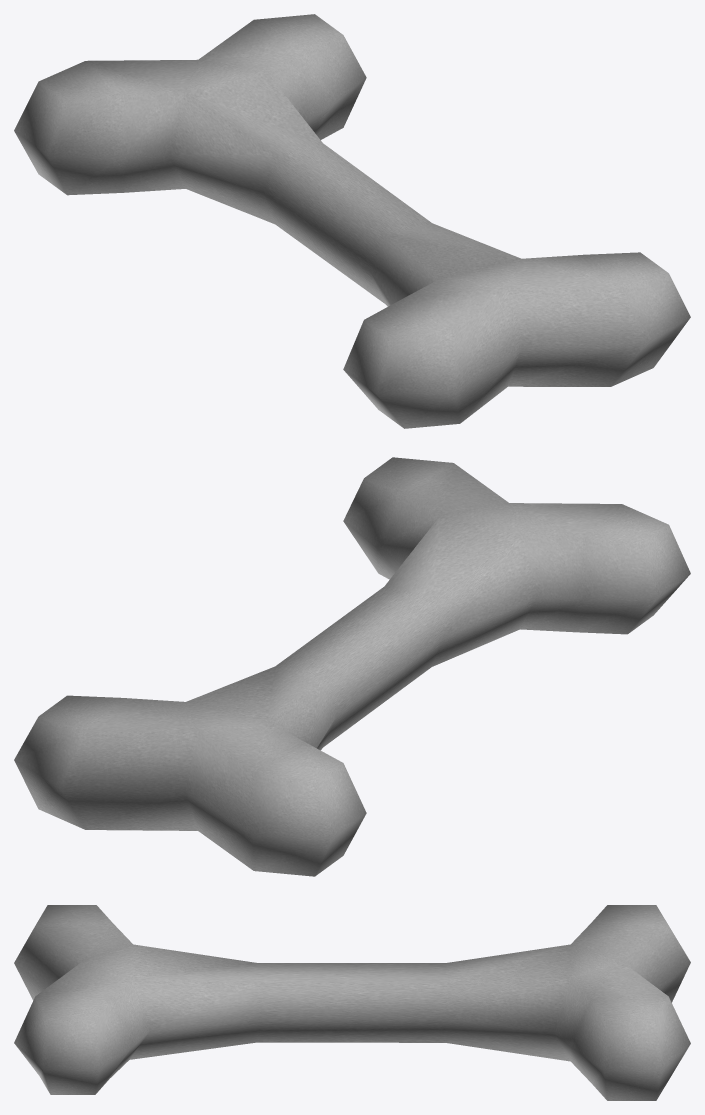
File: bone.glb
3 renders of one model, top to bottom at view 1: azimuth 30°, elevation 25°; view 2: azimuth 150°, elevation 25°; view 3: azimuth 270°, elevation 25°, orthographic. The views are drawn at different scales.
Visible parts, largest first — view 1: Bone; view 2: Bone; view 3: Bone.
Boxes of the visible parts, left/top/right/bottom form: Bone: left=14, top=14, right=690, bottom=428; Bone: left=14, top=457, right=690, bottom=876; Bone: left=14, top=905, right=690, bottom=1100.
Size of the model in its own units: 0.9 by 0.27 by 1.92.
1 material, 1 textured.
